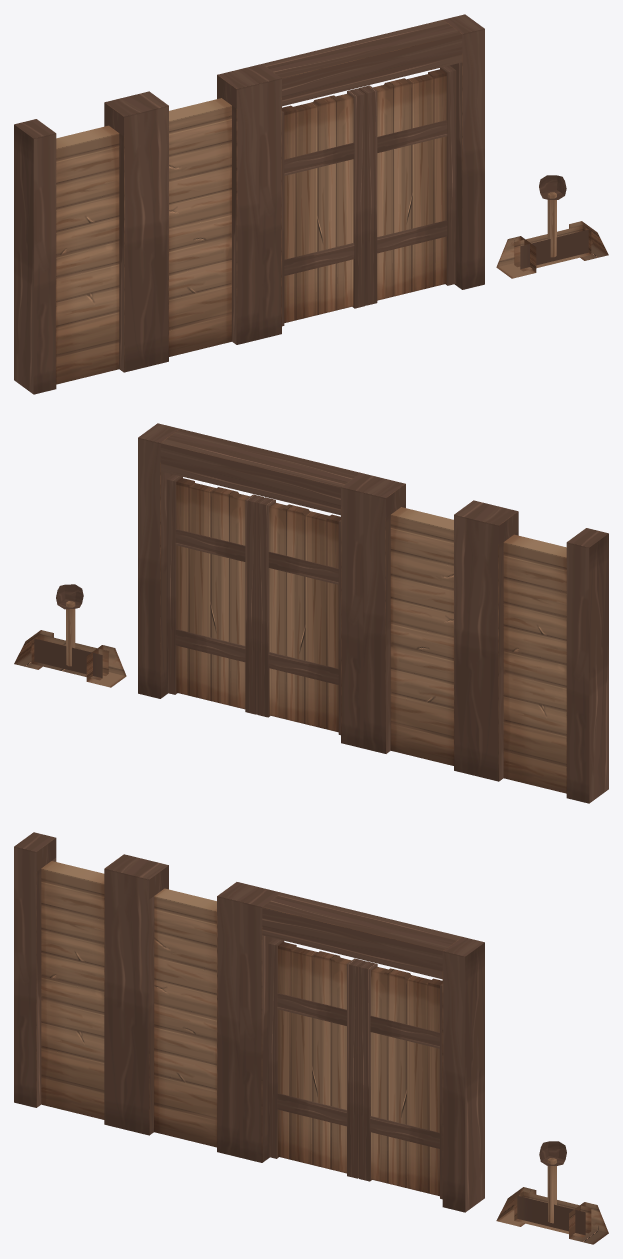
The model's file is big_fence.glb.
3 views of the same model, one above another, from view 1: azimuth 30°, elevation 25°; view 2: azimuth 150°, elevation 25°; view 3: azimuth 330°, elevation 25° (orthographic).
Visible parts, largest first — view 1: big_fence, big_fence_gate, big_fence_portal, big_fence_lever; view 2: big_fence, big_fence_gate, big_fence_portal, big_fence_lever; view 3: big_fence, big_fence_gate, big_fence_portal, big_fence_lever.
Part boxes in pixels (x1,y1,x2,y2): big_fence: [14, 69, 259, 394]; big_fence_gate: [282, 65, 456, 326]; big_fence_portal: [240, 14, 484, 339]; big_fence_lever: [496, 175, 608, 278]; big_fence: [363, 478, 608, 803]; big_fence_gate: [166, 474, 340, 735]; big_fence_portal: [138, 423, 382, 748]; big_fence_lever: [14, 584, 126, 687]; big_fence: [14, 832, 258, 1157]; big_fence_gate: [268, 938, 442, 1199]; big_fence_portal: [239, 887, 484, 1212]; big_fence_lever: [496, 1141, 608, 1244].
Bounding box in the file's own units: 5.12 × 2.19 × 0.3035.
2 materials, 2 textured.
